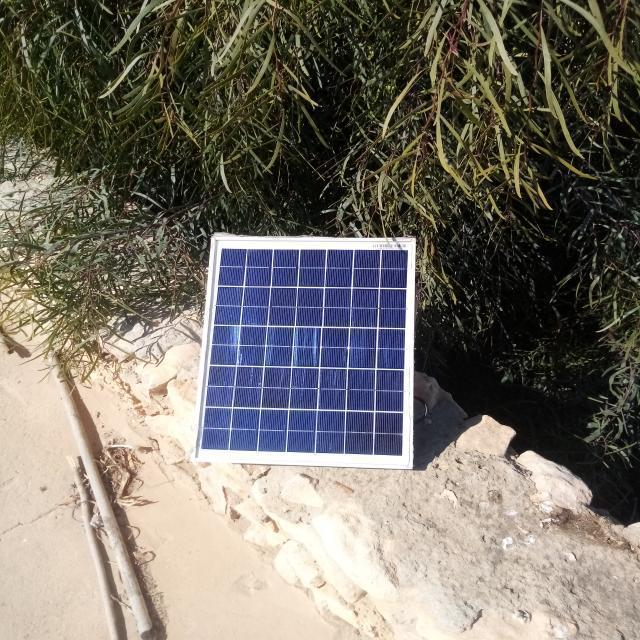Normal Solar Panel: (194, 238, 414, 468)
